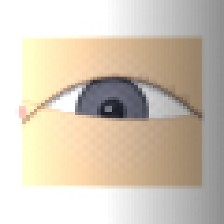pinguecula_lesion: (19, 88, 58, 120)
